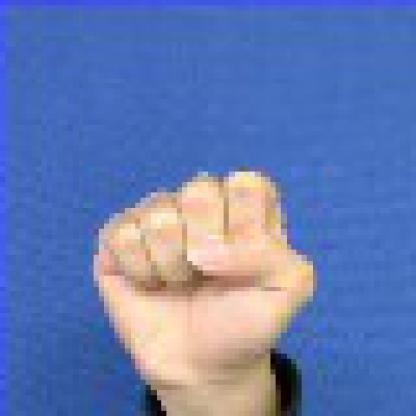zero: (84, 156, 324, 381)
